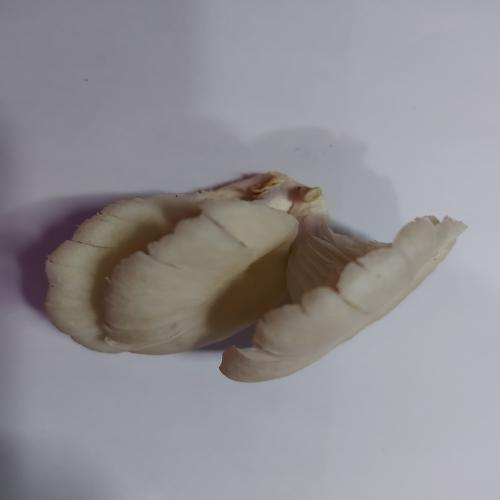Oyster Mushroom: (42, 170, 468, 383)
